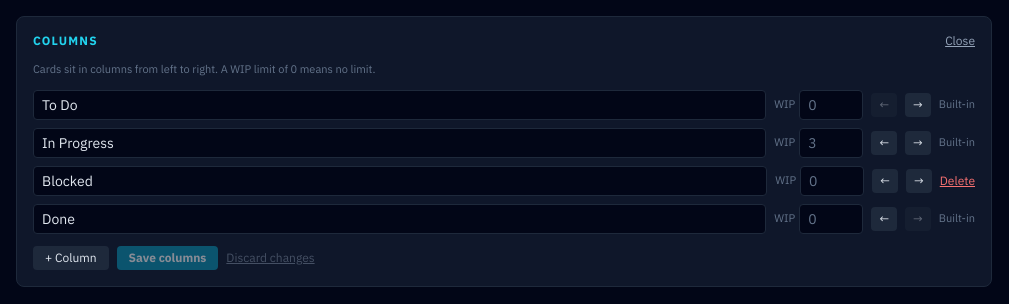
Test: ColumnManager › holds deletes while there are unsaved changes
Replace the text in the 1st field named "Column 1 name" with "Ready" at (400, 104), box 33,90 -> 766,120
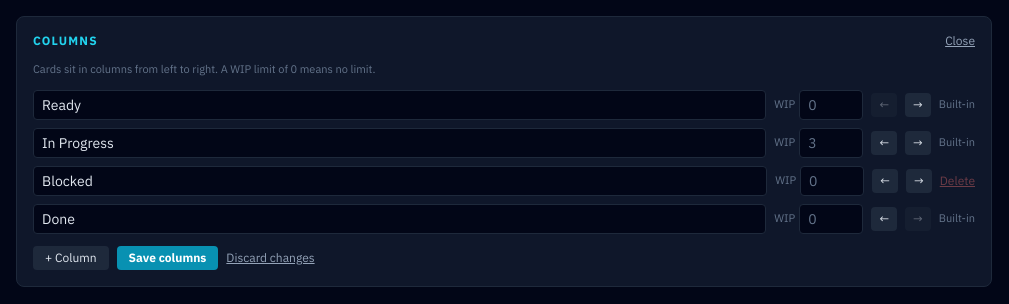
Check: the button with aria-label "Delete column Blocked" is disabled, box 940,172 -> 975,188
